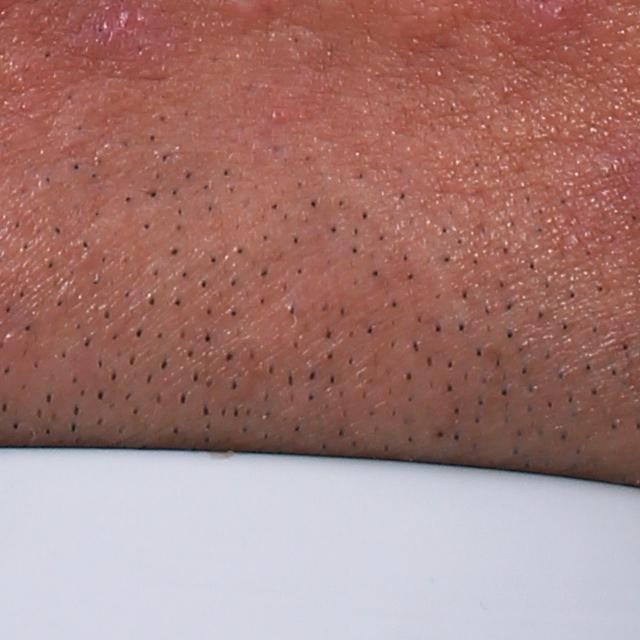papule: (91, 0, 140, 62)
